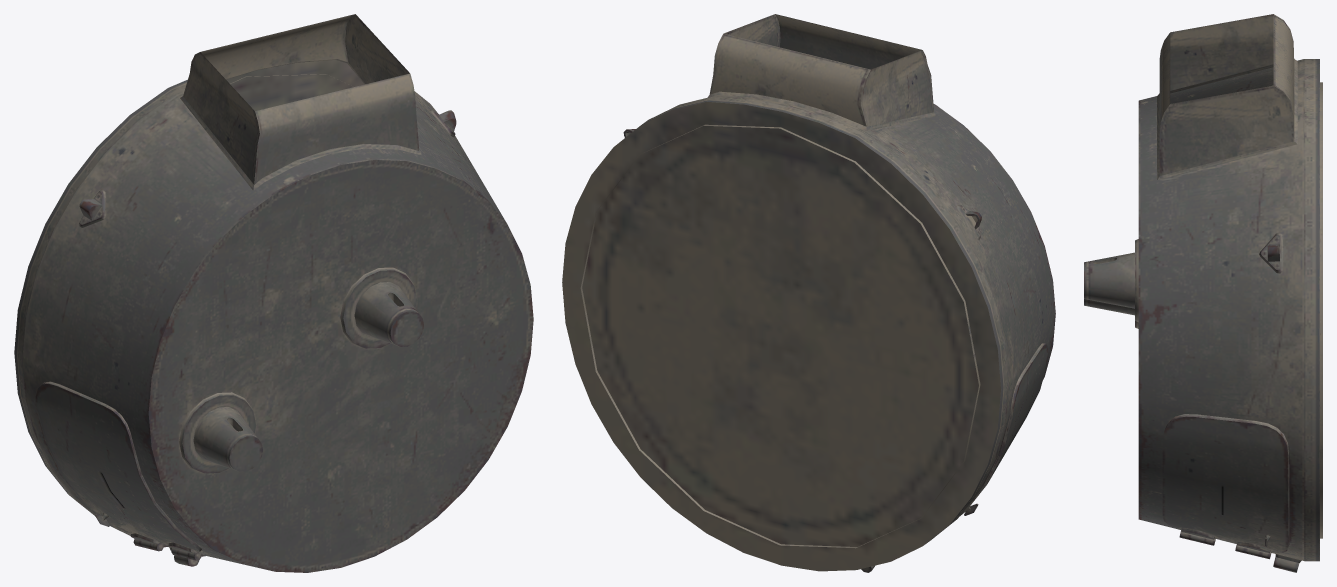
The model's file is Turret_01.glb.
The picture shows the model from 3 angles, left to right: view 1: azimuth 30°, elevation 25°; view 2: azimuth 150°, elevation 25°; view 3: azimuth 270°, elevation 25°; orthographic projection. The views are drawn at different scales.
Visible parts, largest first — view 1: set_0_group_0; view 2: set_0_group_0; view 3: set_0_group_0.
Boxes of the visible parts, <box> form: set_0_group_0: <box>14,14,533,572</box>; set_0_group_0: <box>562,14,1055,572</box>; set_0_group_0: <box>1084,14,1322,572</box>.
Size of the model in its own units: 1.46 by 1.59 by 0.6898.
1 material, 1 textured.
